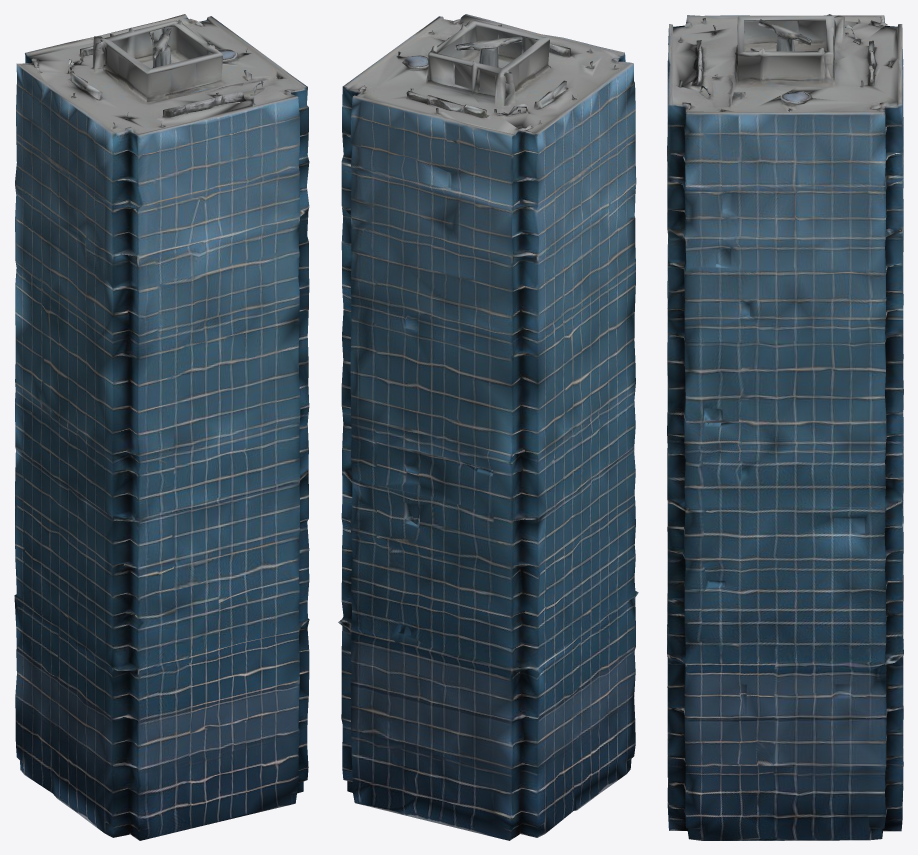
Rendered from bld2_hi.glb.
The picture shows the model from 3 angles, left to right: view 1: azimuth 30°, elevation 25°; view 2: azimuth 150°, elevation 25°; view 3: azimuth 270°, elevation 25°; orthographic projection. The views are drawn at different scales.
Visible parts, largest first — view 1: tripo_node_02c2e473-bcfb-4709-8e19-2591712a6dc5; view 2: tripo_node_02c2e473-bcfb-4709-8e19-2591712a6dc5; view 3: tripo_node_02c2e473-bcfb-4709-8e19-2591712a6dc5.
Part boxes in pixels (x1=…): tripo_node_02c2e473-bcfb-4709-8e19-2591712a6dc5: x1=14, y1=14, x2=309, y2=840; tripo_node_02c2e473-bcfb-4709-8e19-2591712a6dc5: x1=338, y1=14, x2=638, y2=840; tripo_node_02c2e473-bcfb-4709-8e19-2591712a6dc5: x1=667, y1=14, x2=903, y2=840.
Size of the model in its own units: 0.2799 by 0.9996 by 0.2813.
Materials: 1 (1 with a texture image).
